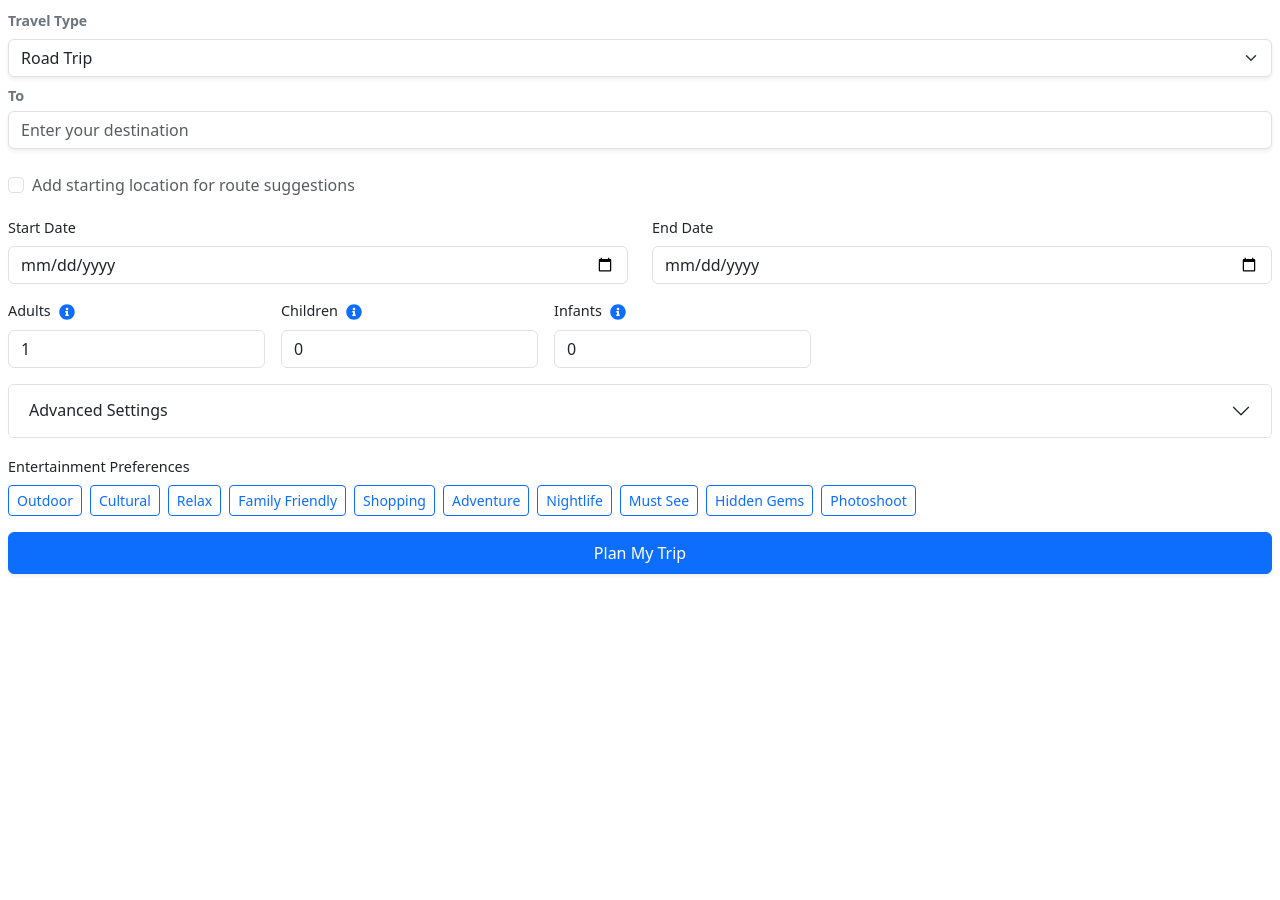
Test case: Distance Filter Integration Tests › Distance Slider Visibility › should hide distance slider when origin field is disabled
Note: Enable then disable origin field
Click the checkbox labelled "Add starting location for route suggestions". click: {"x": 16, "y": 185}
box: [8, 177, 24, 193]
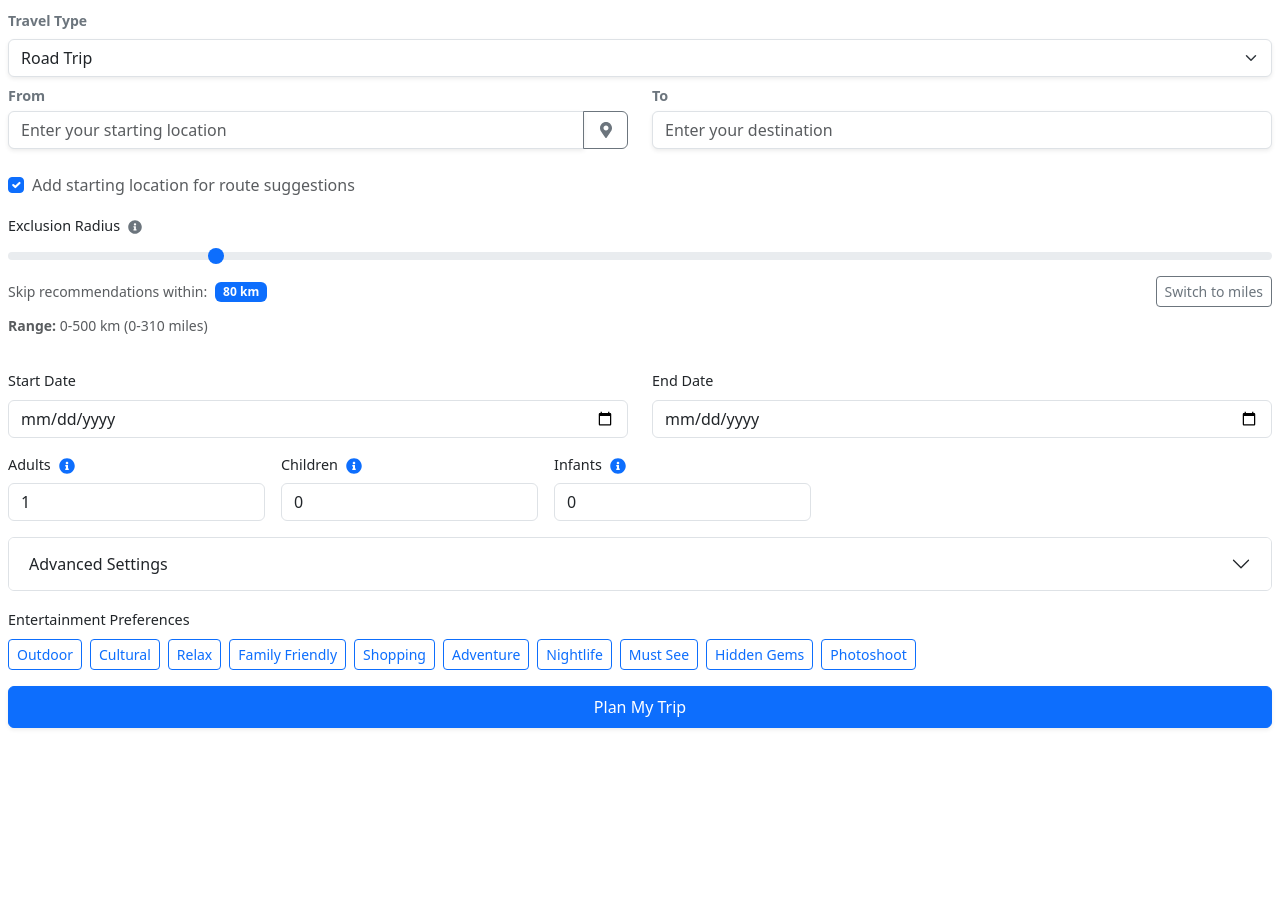
Expected: the element with test id "distance-filter-container" is shown, [8, 215, 1272, 336]
Click the checkbox labelled "Add starting location for route suggestions". click: {"x": 16, "y": 185}
box: [8, 177, 24, 193]
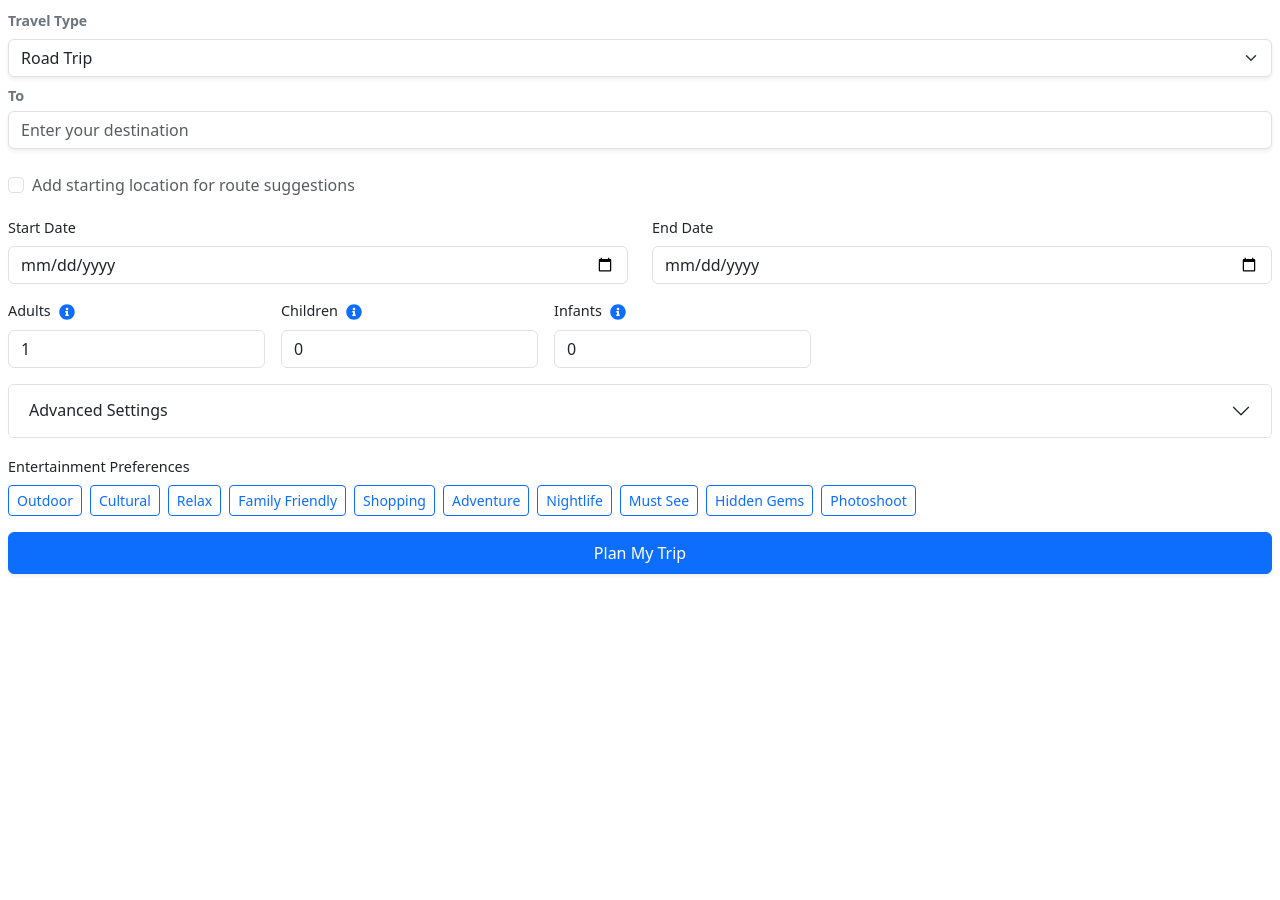
Expected: the element with test id "distance-filter-container" is gone
